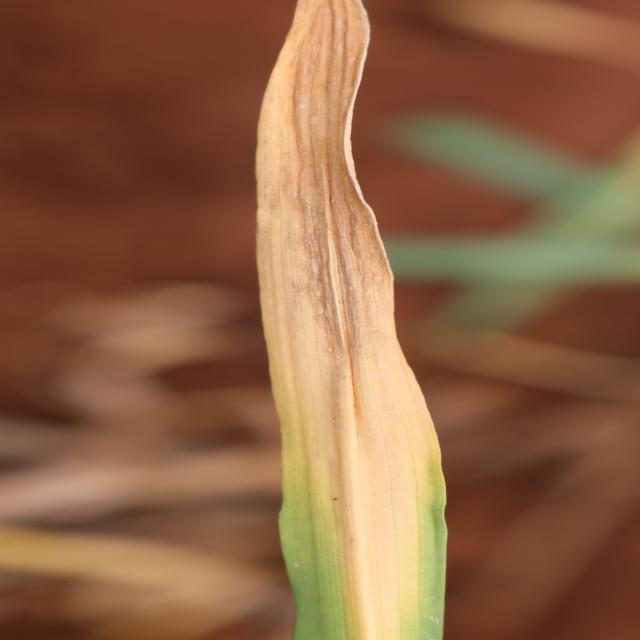Septoria: (252, 0, 450, 639)
